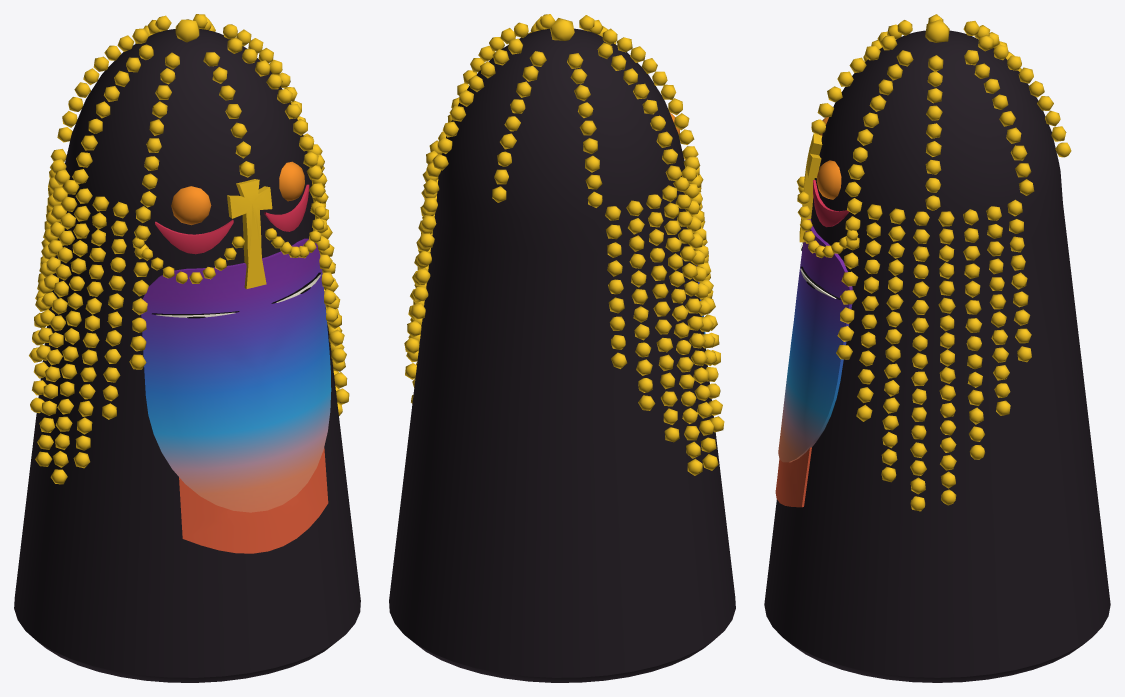
Rendered from fig2_namysto.glb.
3 views of the same model, side by side, from view 1: azimuth 30°, elevation 25°; view 2: azimuth 150°, elevation 25°; view 3: azimuth 270°, elevation 25° (orthographic).
Visible parts, largest first — view 1: fig2_namysto; view 2: fig2_namysto; view 3: fig2_namysto.
Part boxes in pixels (left/top/right/bottom): fig2_namysto: left=14, top=14, right=360, bottom=682; fig2_namysto: left=389, top=14, right=735, bottom=682; fig2_namysto: left=764, top=14, right=1110, bottom=682.
Size of the model in its own units: 1.99 by 3.75 by 1.99.
Materials: 1 (1 with a texture image).
